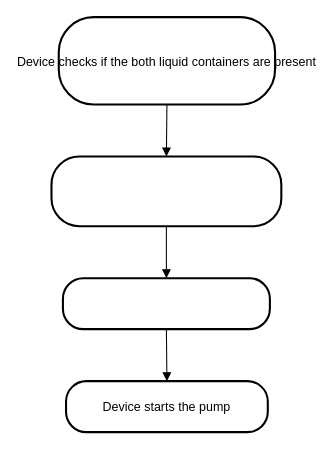
Some shapes in this 334 by 449 pixel diagram are drawn without their labels. The centre of each missing label's shape, as x and y in pixels:
"Device checks if all the lids are closed" goes at (166,191).
"Device starts the heater" goes at (165,303).
